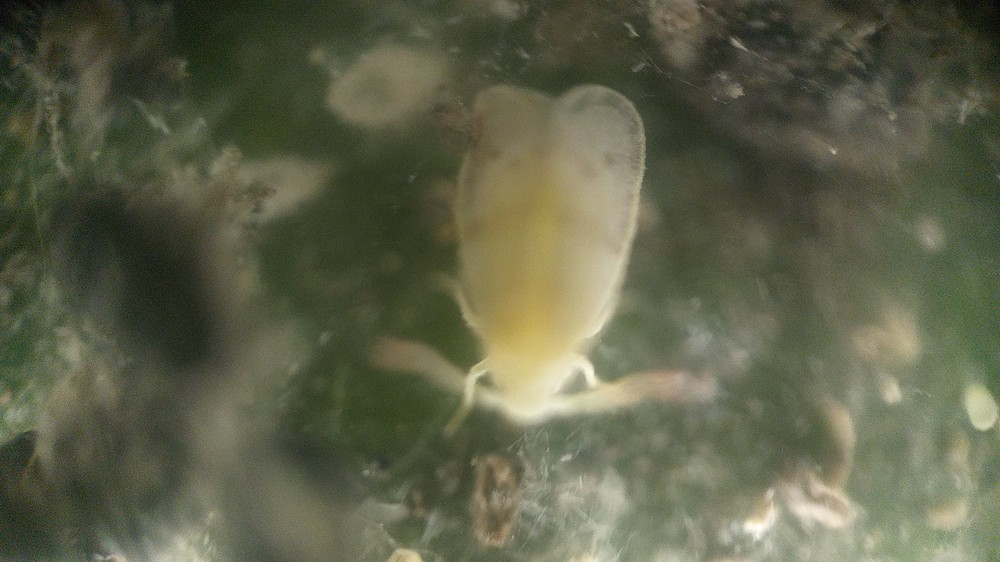Mosca Blanca: (411, 87, 658, 431)
